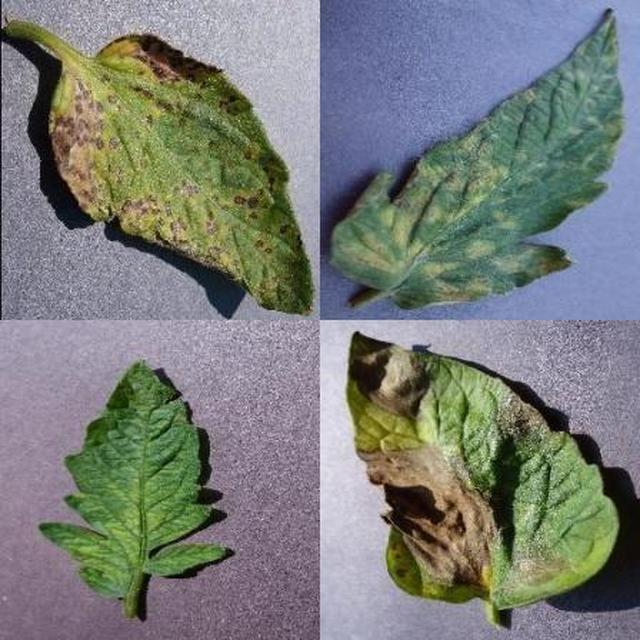Septoria Leaf: (188, 229, 640, 640)
